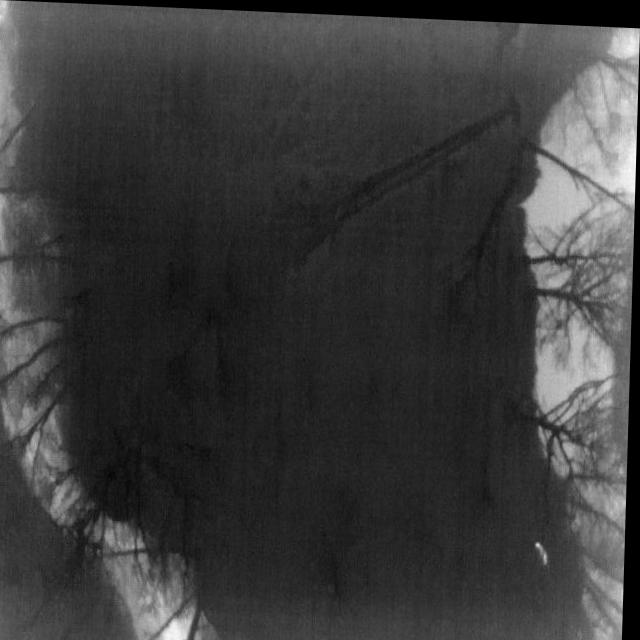deer: (537, 536, 551, 560)
